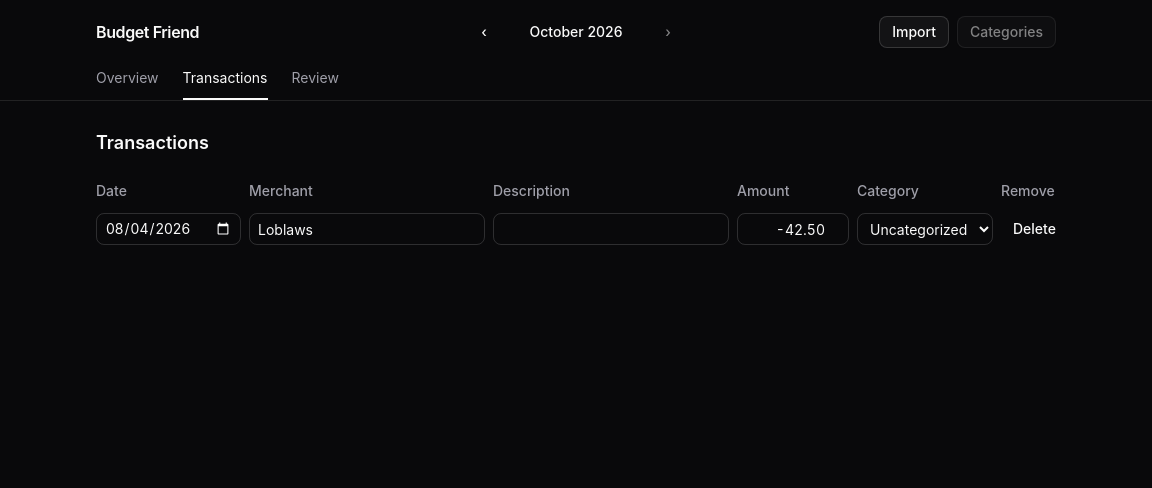
Test: the overview follows a category change made in the transactions view
The image size is (1152, 488).
Expected: the field showing "Loblaws" is shown, [249,213,485,245]
Select "Groceries" in the dropdown named "category" at (925, 229), box [857,213,993,245]
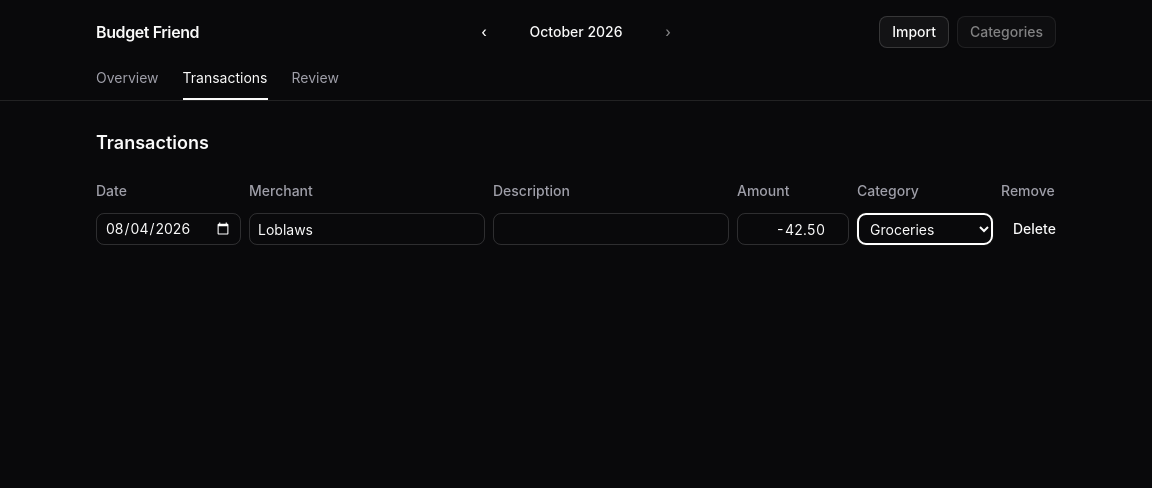
Click the link "Overview" at (127, 78), box [96,69,159,86]
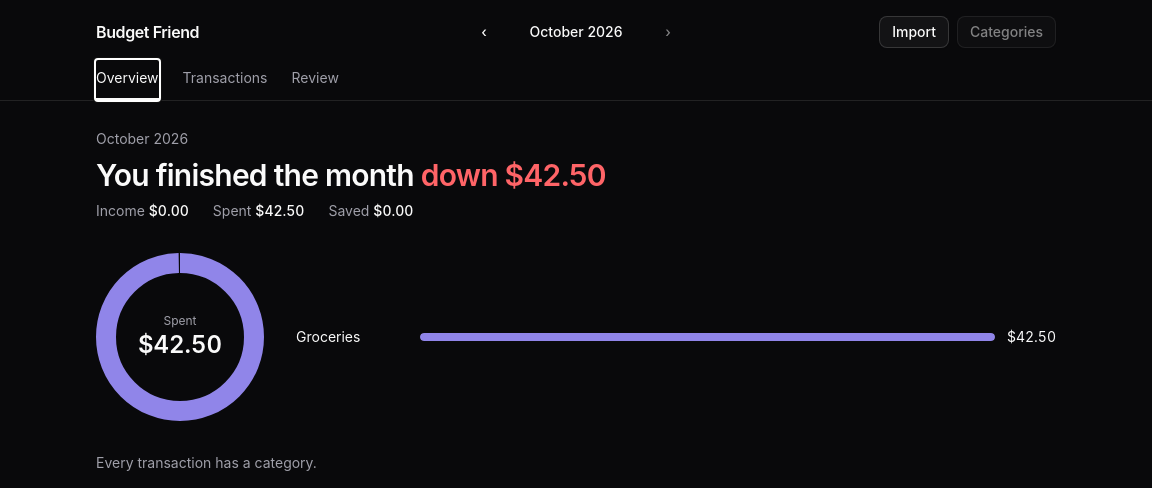
Expected: the list item reads "Groceries $42.50", [296,327,1056,347]
